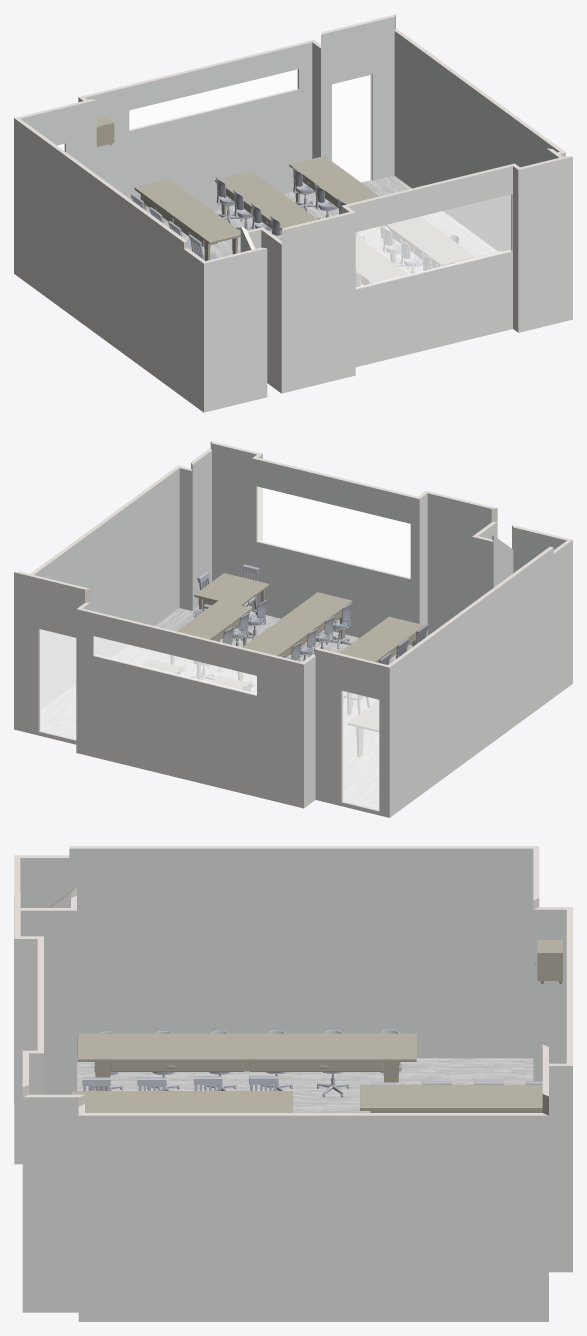
The model's file is blh2.6.glb.
3 renders of one model, top to bottom at view 1: azimuth 30°, elevation 25°; view 2: azimuth 150°, elevation 25°; view 3: azimuth 270°, elevation 25°, orthographic. The views are drawn at different scales.
Parts seen in each view (by area): view 1: wall_16, wall_34, wall_14, wall_26, wall_1, wall_0, wall_3, window_0, window_2, wall_22, door_0, door_2 (+18 smaller); view 2: wall_8, wall_16, wall_26, wall_46, window_0, window_2, floor_Dining_Room, wall_11, wall_2, wall_20, wall_24, door_1 (+23 smaller); view 3: wall_4, wall_50, table_other_rect0, wall_9, floor_Dining_Room, wall_52, table_other_rect6, wall_12, table_other_rect3, wall_38, wall_6, wall_51 (+5 smaller).
Boxes of the visible parts, left/top/right/bottom form: wall_16: left=14, top=118, right=203, bottom=412; wall_34: left=85, top=42, right=312, bottom=223; wall_14: left=347, top=166, right=512, bottom=367; wall_26: left=394, top=31, right=559, bottom=251; wall_1: left=281, top=212, right=355, bottom=393; wall_0: left=204, top=248, right=267, bottom=412; wall_3: left=518, top=157, right=572, bottom=332; window_0: left=356, top=194, right=510, bottom=288; window_2: left=356, top=195, right=510, bottom=288; wall_22: left=321, top=17, right=394, bottom=180; door_0: left=332, top=75, right=371, bottom=182; door_2: left=332, top=75, right=371, bottom=182; wall_8: left=76, top=609, right=303, bottom=808; wall_16: left=389, top=540, right=572, bottom=817; wall_26: left=34, top=468, right=179, bottom=708; wall_46: left=252, top=458, right=419, bottom=644; window_0: left=257, top=487, right=410, bottom=577; window_2: left=257, top=487, right=410, bottom=577; floor_Dining_Room: left=40, top=605, right=396, bottom=809; wall_11: left=315, top=649, right=389, bottom=817; wall_2: left=14, top=572, right=84, bottom=744; wall_20: left=427, top=493, right=491, bottom=635; wall_24: left=212, top=443, right=256, bottom=606; door_1: left=343, top=691, right=378, bottom=809; wall_4: left=78, top=1115, right=548, bottom=1321; wall_50: left=20, top=848, right=533, bottom=1058; table_other_rect0: left=77, top=1033, right=416, bottom=1090; wall_9: left=22, top=1097, right=78, bottom=1312; floor_Dining_Room: left=77, top=1058, right=533, bottom=1112; wall_52: left=20, top=910, right=76, bottom=1094; table_other_rect6: left=360, top=1084, right=542, bottom=1112; wall_12: left=549, top=1066, right=572, bottom=1272; table_other_rect3: left=71, top=1091, right=293, bottom=1112; wall_38: left=533, top=909, right=566, bottom=1081; wall_6: left=14, top=939, right=37, bottom=1164; wall_51: left=14, top=846, right=538, bottom=857.
Bounding box in the file's own units: 9.89 × 3.99 × 8.98.
Materials: 82 (1 with a texture image).
